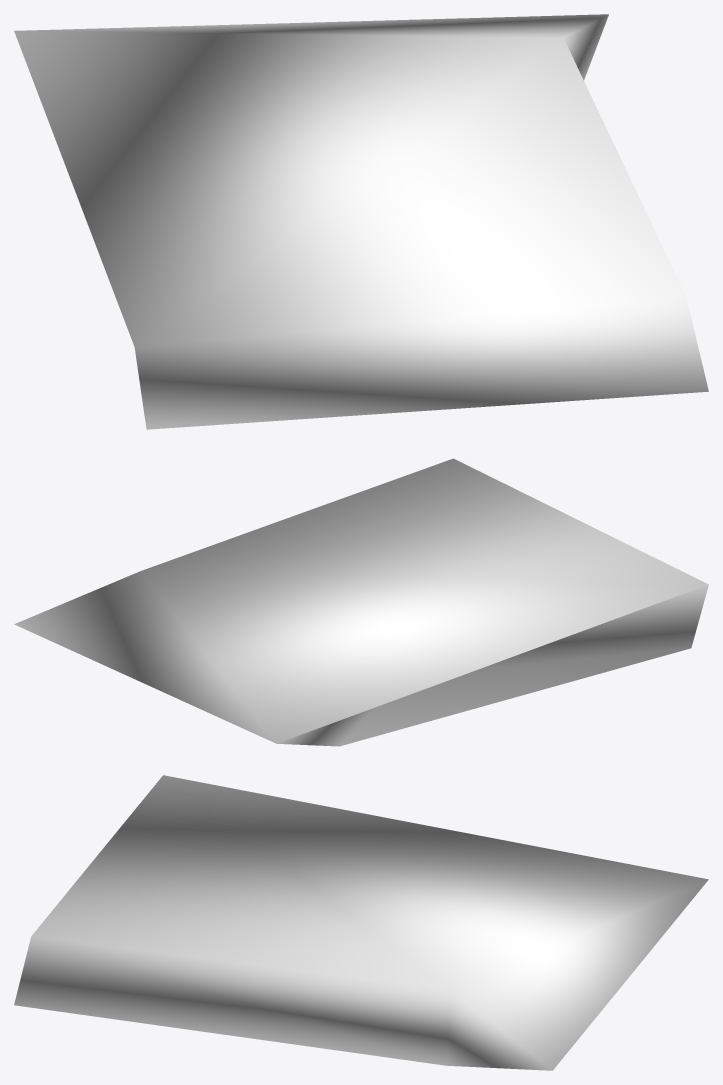
3 views of the same model, one above another, from view 1: azimuth 30°, elevation 25°; view 2: azimuth 150°, elevation 25°; view 3: azimuth 270°, elevation 25° (orthographic). The views are drawn at different scales.
Bounding box in the file's own units: 0.2605 × 0.037 × 0.2898.
1 material, 1 textured.
